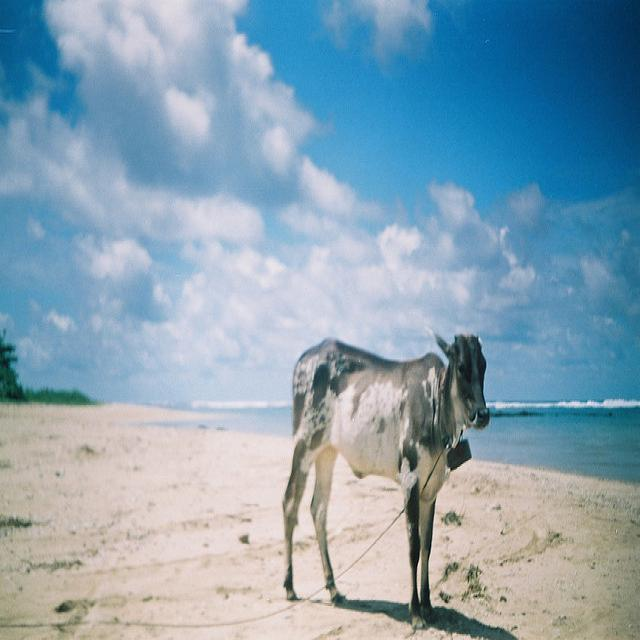cow: (280, 325, 489, 628)
